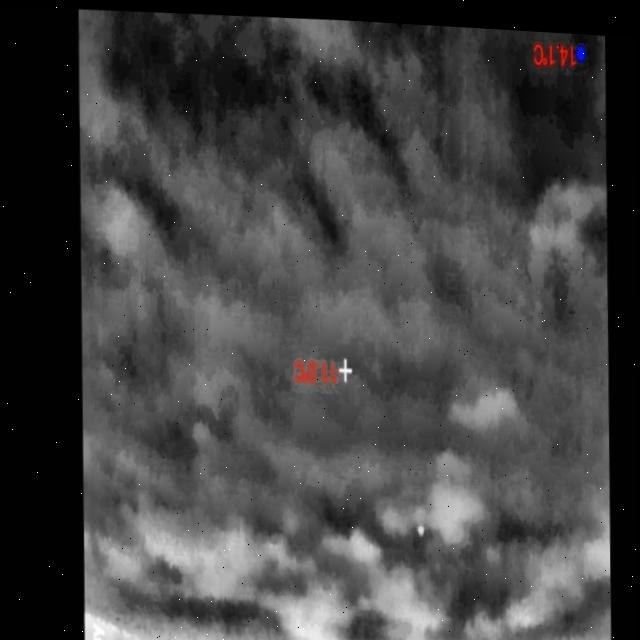drone: (417, 517, 426, 532)
